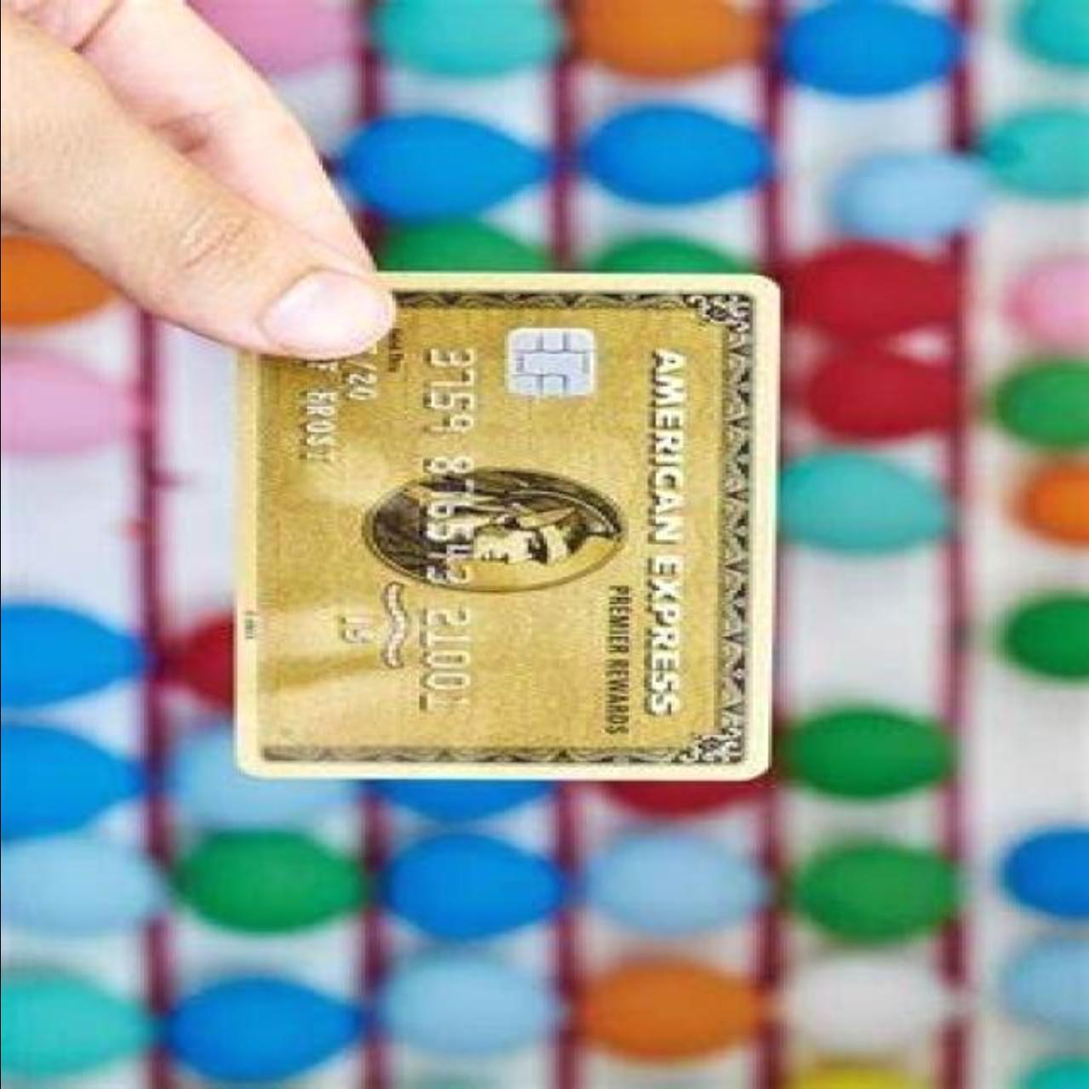credit_card: (231, 262, 783, 793)
